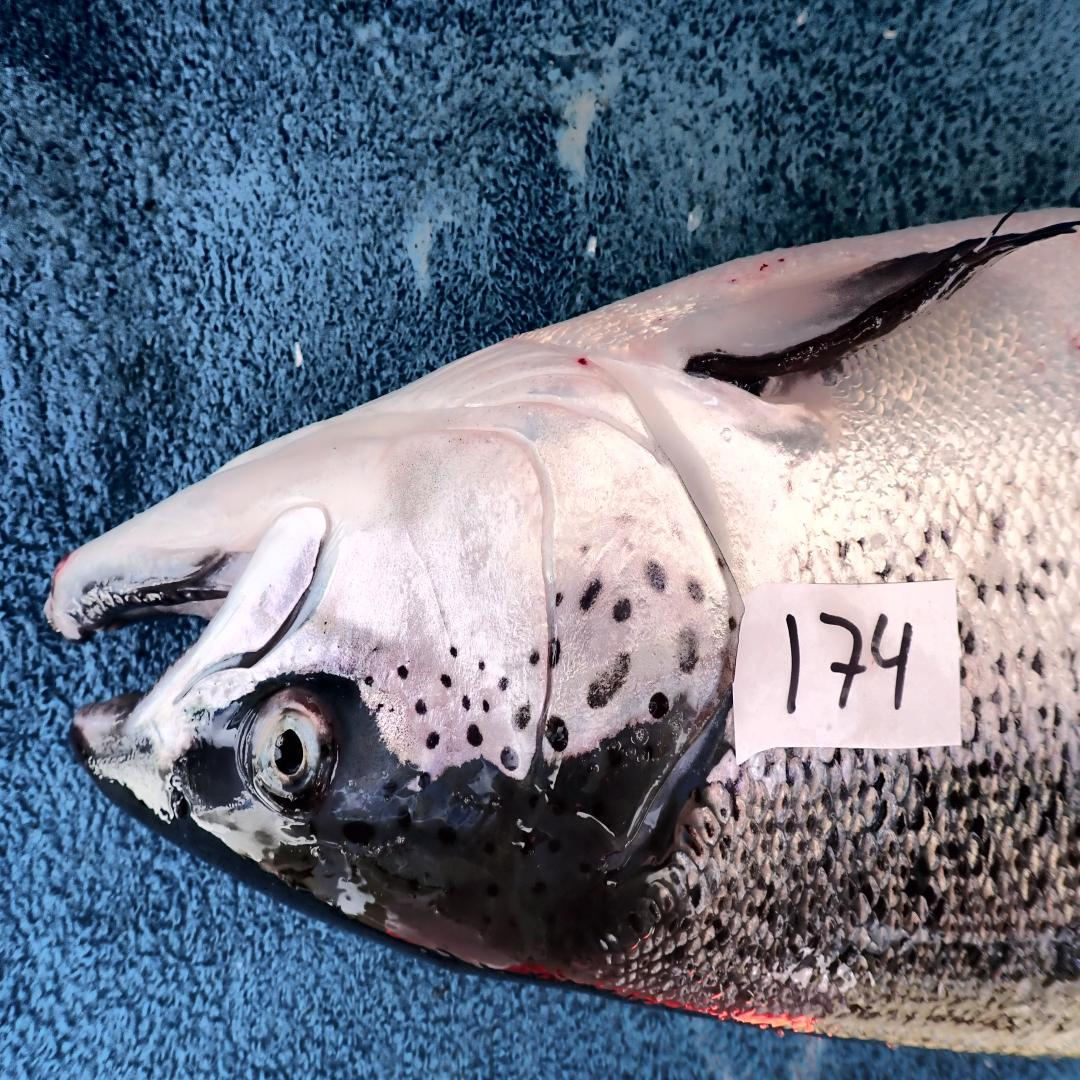spot: (586, 652, 631, 709), (679, 627, 698, 672), (546, 717, 570, 751), (645, 560, 667, 591), (580, 579, 601, 610), (648, 692, 669, 720), (500, 745, 519, 771), (515, 703, 532, 728), (614, 599, 631, 622), (688, 579, 705, 602), (669, 520, 686, 543), (466, 723, 483, 745), (715, 546, 726, 574), (551, 638, 561, 667), (620, 537, 637, 554), (426, 731, 439, 748), (529, 650, 540, 664), (498, 678, 508, 692), (416, 700, 426, 714), (477, 658, 487, 672), (728, 616, 738, 630), (555, 591, 563, 608), (580, 546, 591, 557), (462, 695, 470, 709), (363, 675, 373, 686), (397, 667, 407, 678), (441, 675, 451, 686), (449, 647, 458, 658), (483, 700, 489, 712), (375, 704, 384, 712), (372, 646, 380, 653), (489, 664, 494, 669), (389, 707, 394, 712)
